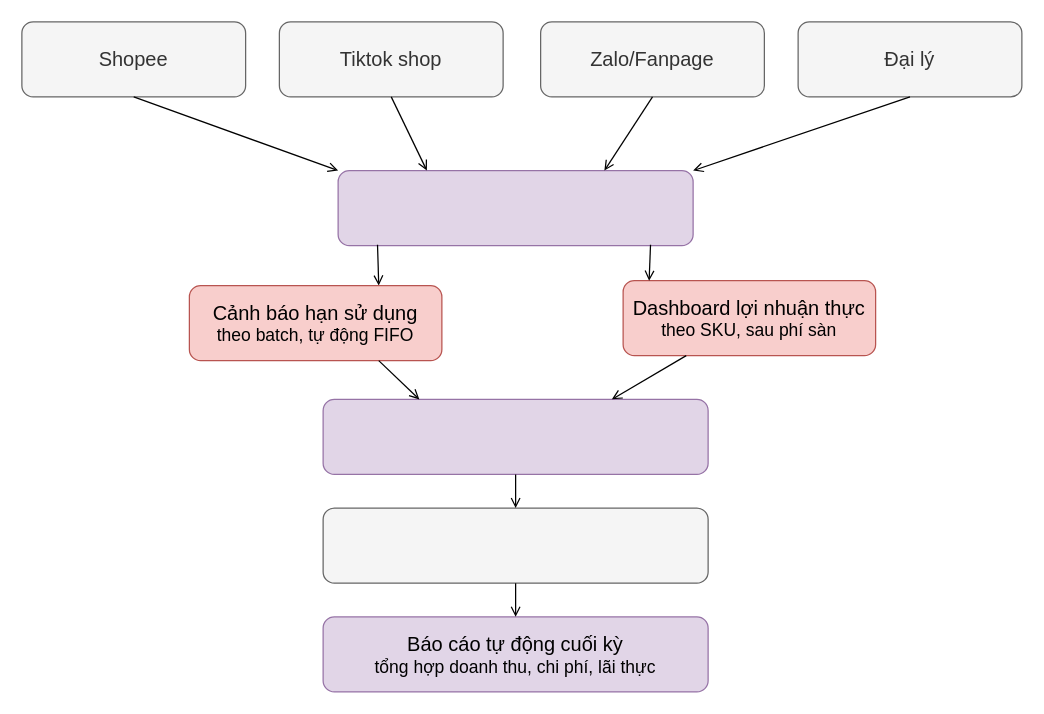
The diagram is 1044 pixels wide and 714 high, and some of its shapes have lost their labels. The centre of each missing label's shape, as x and y in pixels:
"Giao hàng trạng thái giao hàng được cập nhật vào hệ thống chung" goes at point 515,545.
"Hệ thống dữ liệu trung tâm đồng bộ tồn kho, batch, chi phí real-time" goes at point 515,207.
"Đóng gói theo cảnh báo hệ thống lấy đúng batch được gợi ý" goes at point 515,436.
